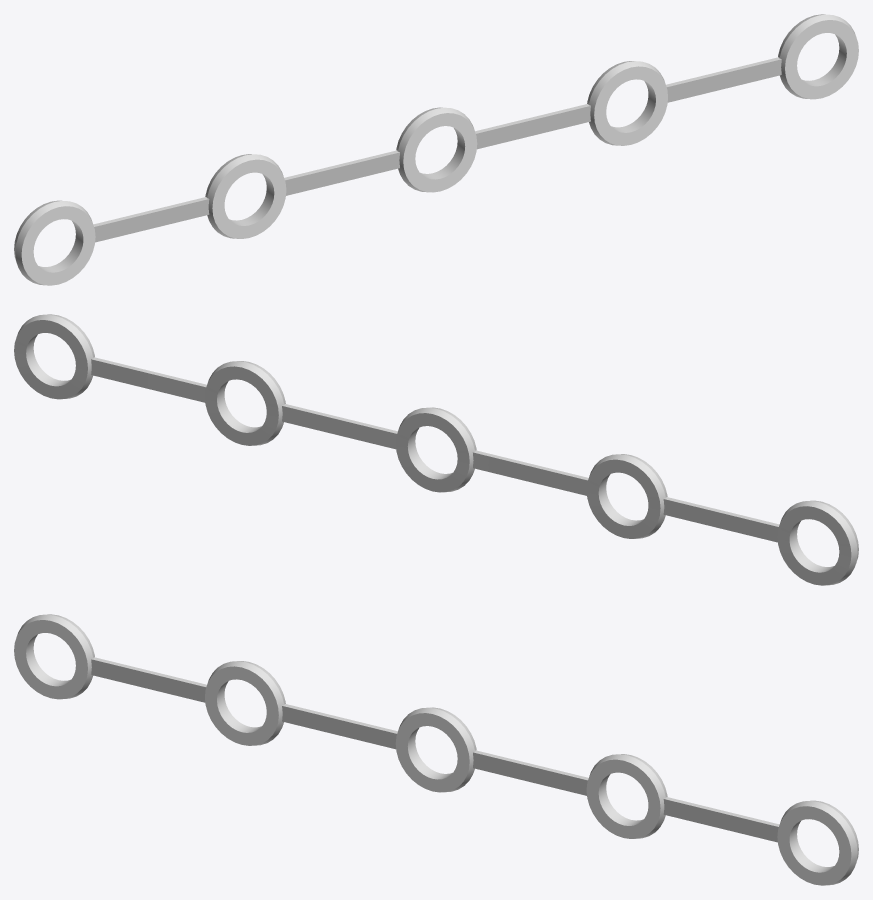
3 views of the same model, one above another, from view 1: azimuth 30°, elevation 25°; view 2: azimuth 150°, elevation 25°; view 3: azimuth 330°, elevation 25° (orthographic).
Parts seen in each view (by area): view 1: sliderBar; view 2: sliderBar; view 3: sliderBar.
Boxes of the visible parts, x1,y1,x2,y2 form: sliderBar: (14,14,858,285); sliderBar: (14,314,858,585); sliderBar: (14,614,858,885).
Size of what is drawn, in the model's own units: 1.64 by 0.1536 by 0.0256.
Materials: 1 (1 with a texture image).
